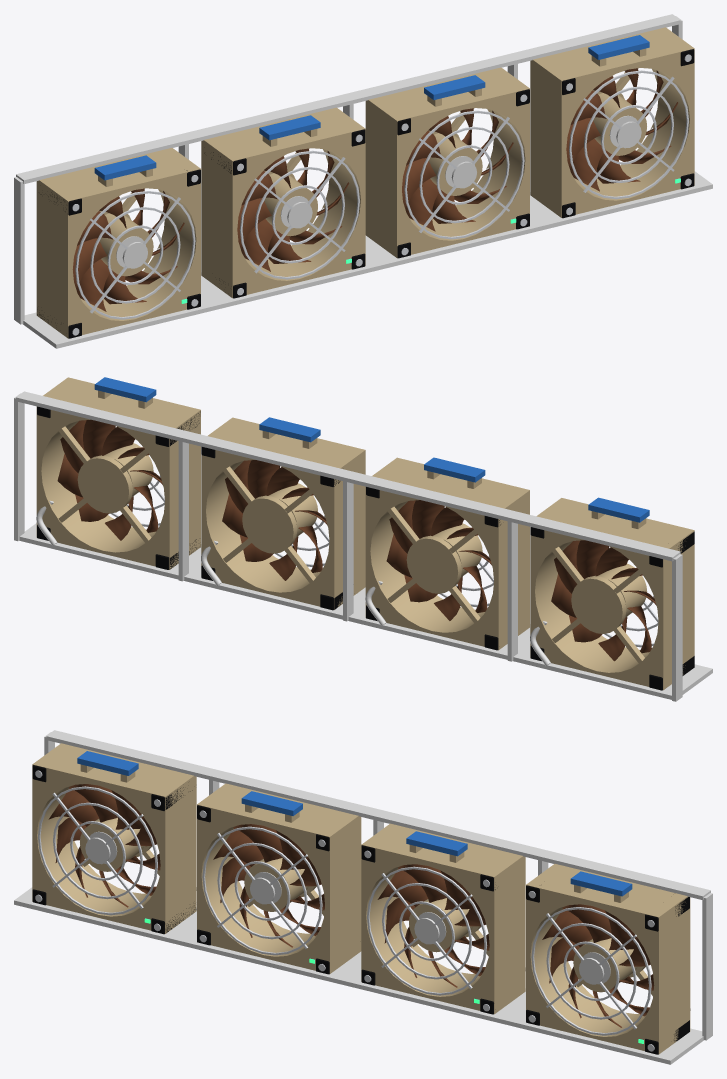
The model's file is hwm_cool_noctua.glb.
3 views of the same model, one above another, from view 1: azimuth 30°, elevation 25°; view 2: azimuth 150°, elevation 25°; view 3: azimuth 330°, elevation 25° (orthographic).
Parts seen in each view (by area): view 1: Body, Rotor_Z_0, Rotor_Z_3, Rotor_Z_1, Rotor_Z_2; view 2: Body, Rotor_Z_0, Rotor_Z_2, Rotor_Z_3, Rotor_Z_1; view 3: Body, Rotor_Z_3, Rotor_Z_1, Rotor_Z_0, Rotor_Z_2.
Part boxes in pixels (left/top/right/bottom): Body: left=14, top=14, right=712, bottom=348; Rotor_Z_0: left=72, top=188, right=184, bottom=311; Rotor_Z_3: left=566, top=68, right=677, bottom=191; Rotor_Z_1: left=237, top=148, right=349, bottom=271; Rotor_Z_2: left=402, top=108, right=513, bottom=231; Body: left=14, top=377, right=712, bottom=701; Rotor_Z_0: left=551, top=540, right=656, bottom=661; Rotor_Z_2: left=222, top=460, right=327, bottom=580; Rotor_Z_3: left=57, top=419, right=162, bottom=540; Rotor_Z_1: left=386, top=500, right=491, bottom=620; Body: left=14, top=730, right=712, bottom=1064; Rotor_Z_3: left=542, top=904, right=654, bottom=1027; Rotor_Z_1: left=213, top=824, right=324, bottom=947; Rotor_Z_0: left=48, top=784, right=160, bottom=907; Rotor_Z_2: left=377, top=864, right=489, bottom=987.
Size of the model in its own units: 0.4628 by 0.1033 by 0.049.
